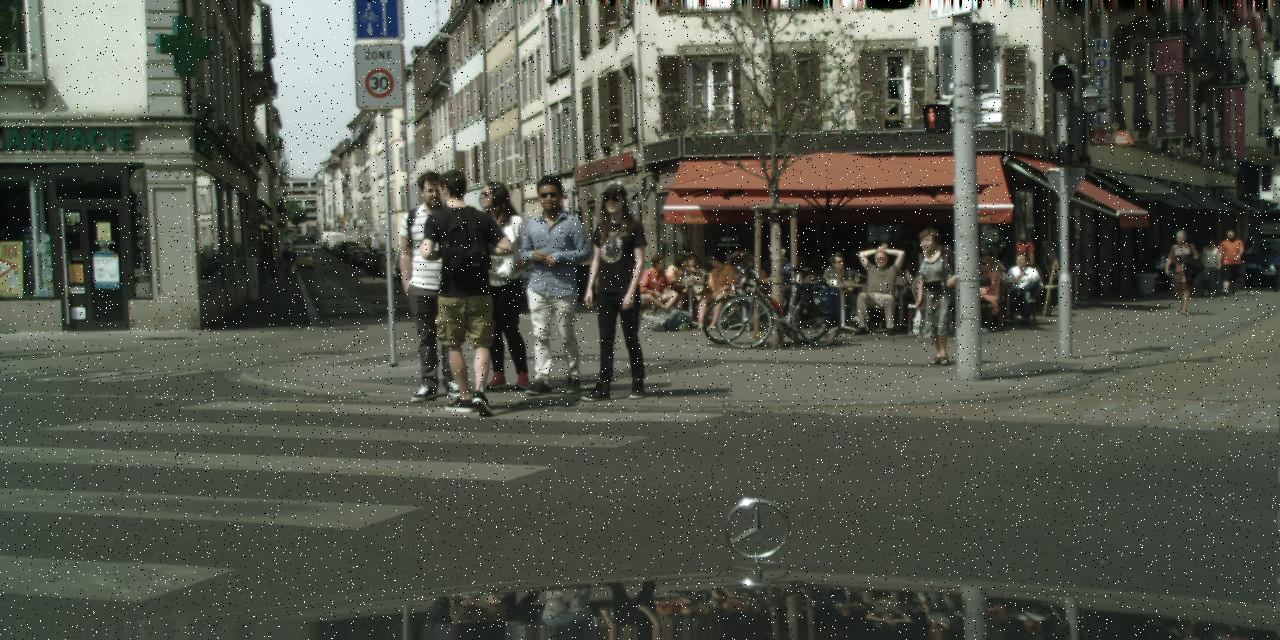ped: (413, 169, 513, 412), (389, 168, 482, 398), (510, 175, 599, 393), (572, 182, 660, 397), (459, 180, 544, 388), (906, 228, 962, 364), (1164, 229, 1198, 313), (1009, 234, 1040, 310), (1217, 230, 1243, 295), (1199, 239, 1222, 295), (281, 247, 291, 275), (290, 258, 298, 276)
